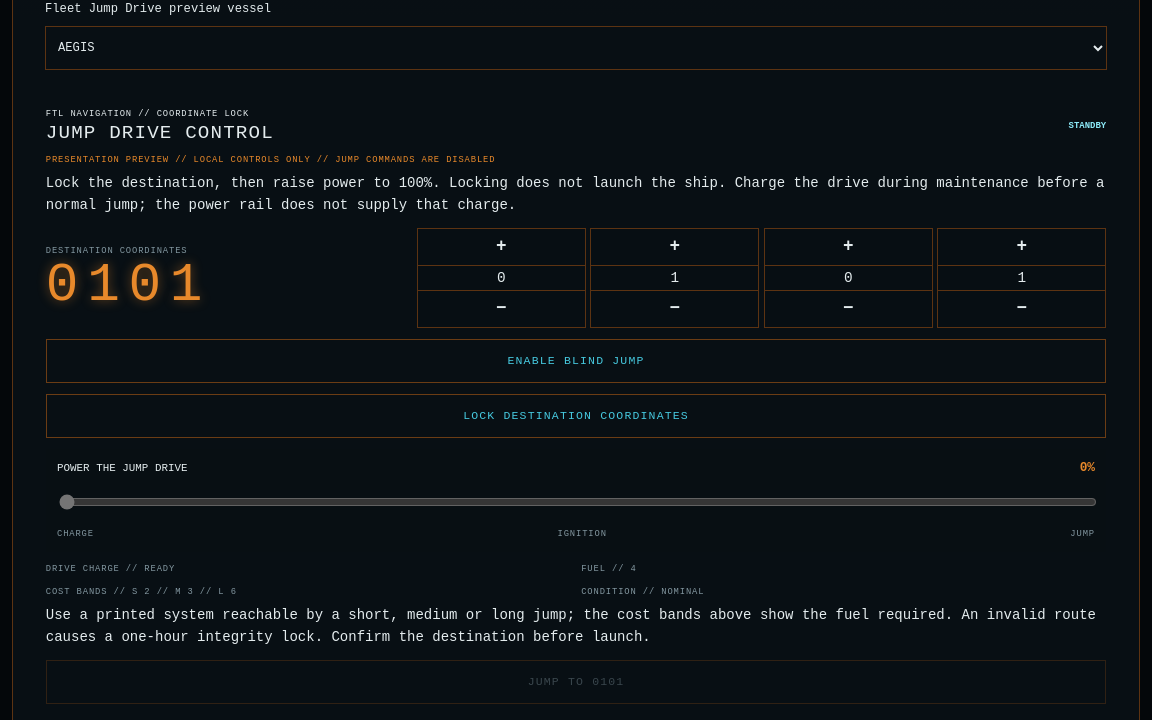
Test: previews blind-jump presentation while keeping the production launch control disabled
(page scrolled)
Click the button "Enable blind jump".
click(576, 361)  # box [46,339,1106,383]
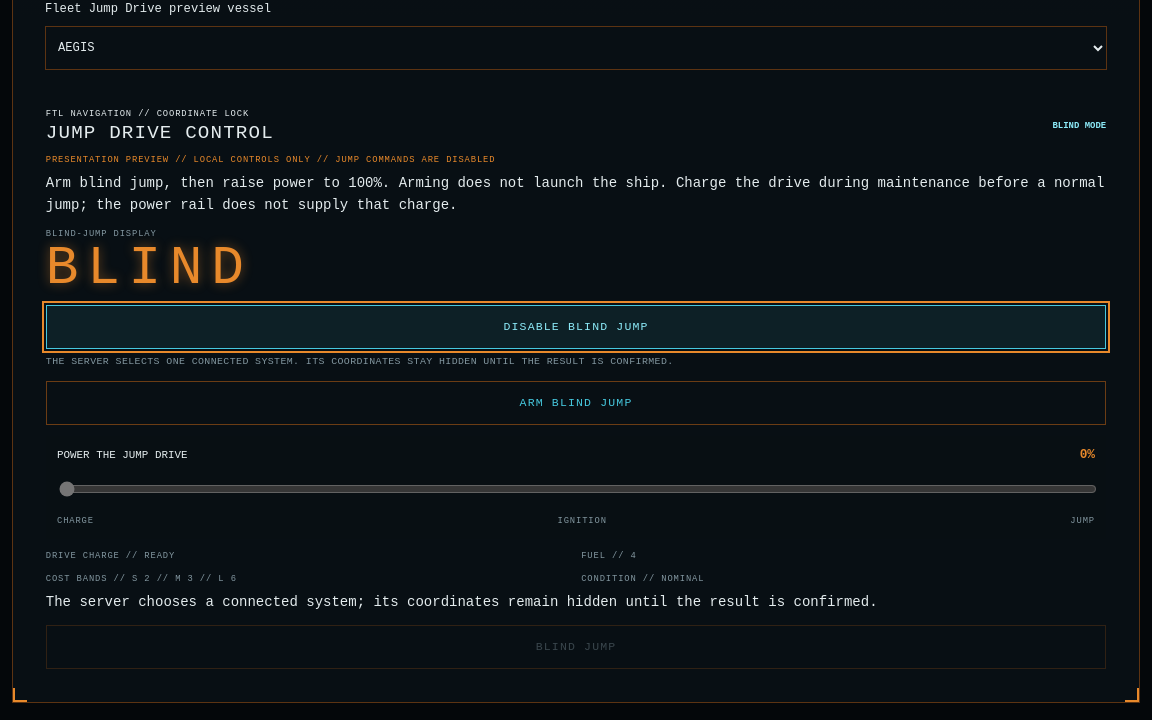
Expected: the button "Blind jump" is disabled, [46,625,1106,669]
Now the element named "Blind destination hidden until server resolution" is shown, box [46,245,1106,294]
